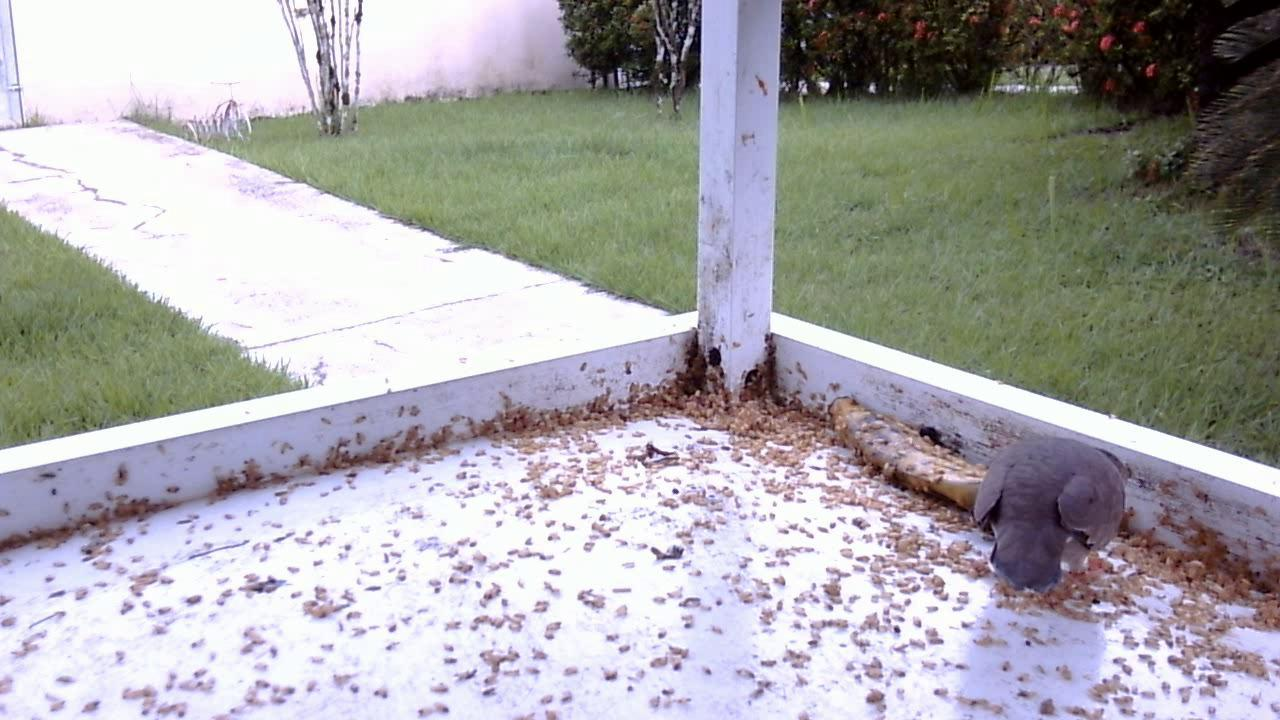rolinha: (887, 420, 1138, 604)
